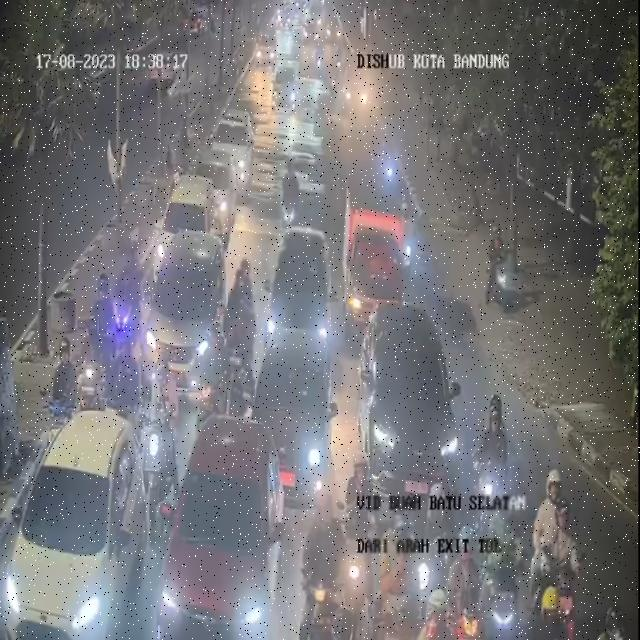cars: (0, 411, 149, 639), (164, 412, 281, 639), (364, 297, 467, 520), (251, 326, 336, 526), (140, 224, 228, 401), (342, 185, 412, 339), (262, 218, 331, 363), (156, 174, 224, 264), (193, 144, 238, 234), (214, 104, 258, 173)
motorcycle: (368, 497, 426, 640), (532, 462, 582, 614), (482, 494, 527, 640), (300, 499, 343, 640), (418, 480, 461, 616), (136, 351, 174, 492), (340, 452, 370, 623), (471, 387, 509, 520), (81, 270, 118, 403), (108, 240, 147, 362), (447, 528, 483, 632), (107, 328, 141, 436), (228, 258, 260, 364), (44, 343, 74, 451), (481, 223, 513, 317), (227, 343, 255, 416), (278, 160, 303, 232), (601, 600, 629, 640)
